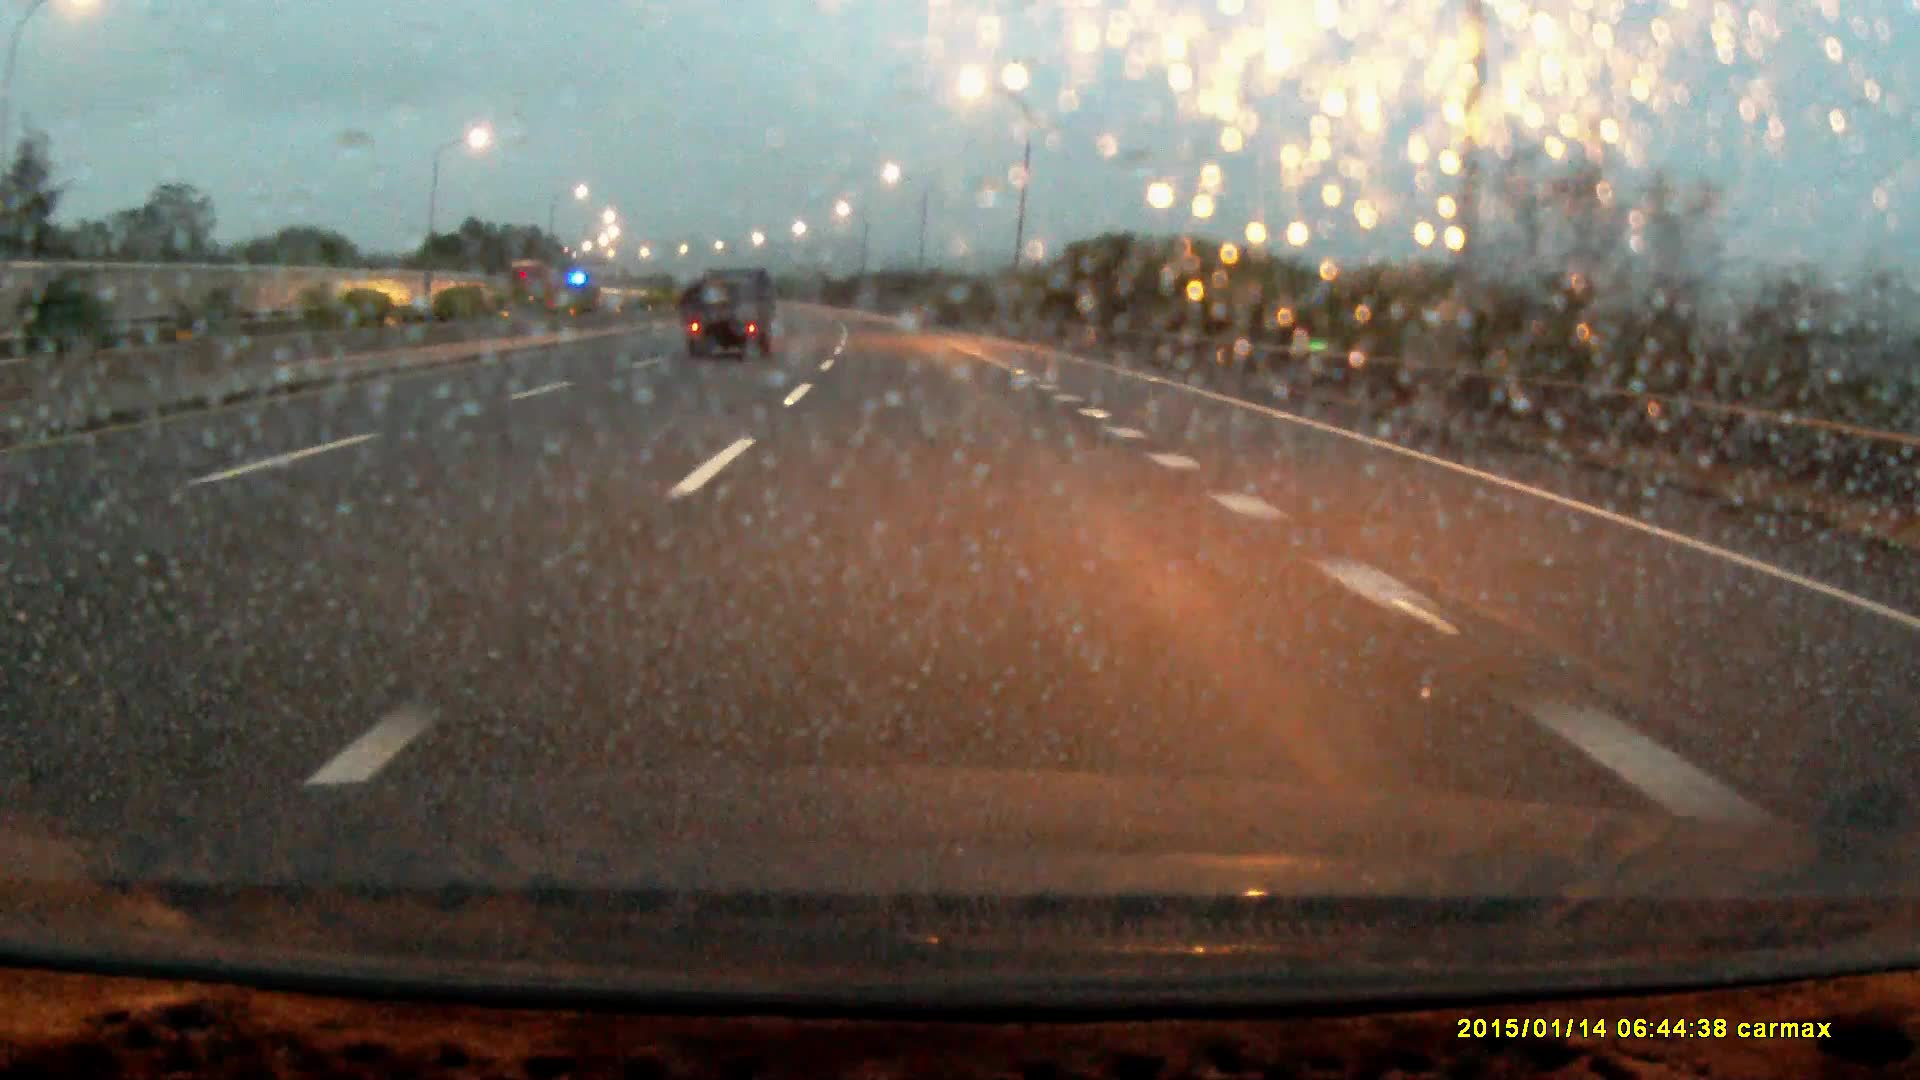vehicle: (688, 266, 771, 361), (504, 262, 560, 309)
